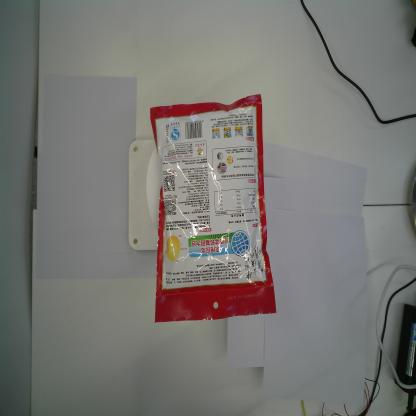Instant Drink: (150, 94, 277, 325)
